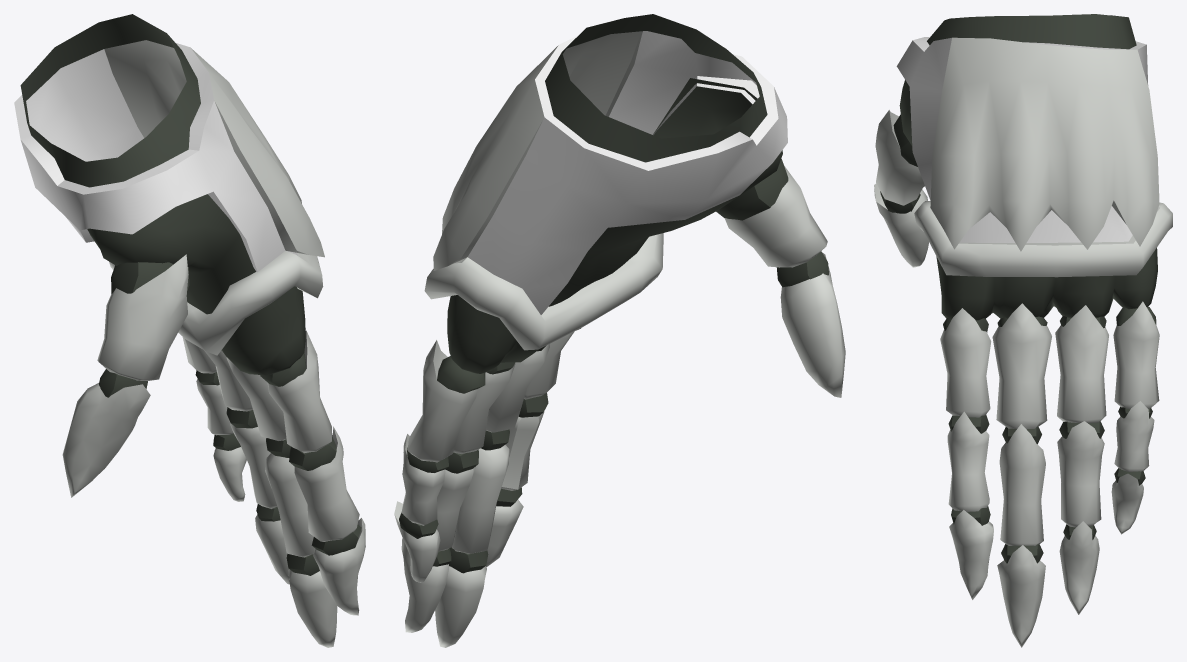
File: ralph_lefthand.fbx
3 views of the same model, side by side, from view 1: azimuth 30°, elevation 25°; view 2: azimuth 150°, elevation 25°; view 3: azimuth 270°, elevation 25° (orthographic). The views are drawn at different scales.
Visible parts, largest first — view 1: hand; view 2: hand; view 3: hand.
Part boxes in pixels (x1,y1,x2,y2): hand: [14, 14, 365, 647]; hand: [394, 14, 845, 647]; hand: [874, 14, 1172, 647].
Bounding box in the file's own units: 109 × 197 × 94.41.
